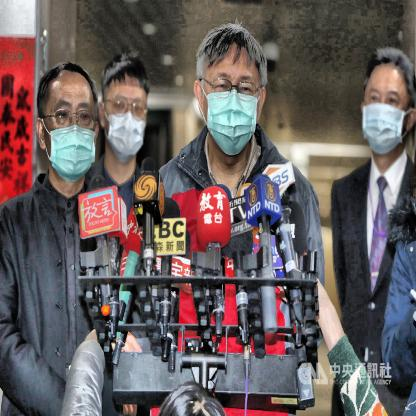not_wear: (199, 30, 265, 147), (38, 66, 98, 182), (363, 51, 416, 161), (104, 53, 149, 161)
